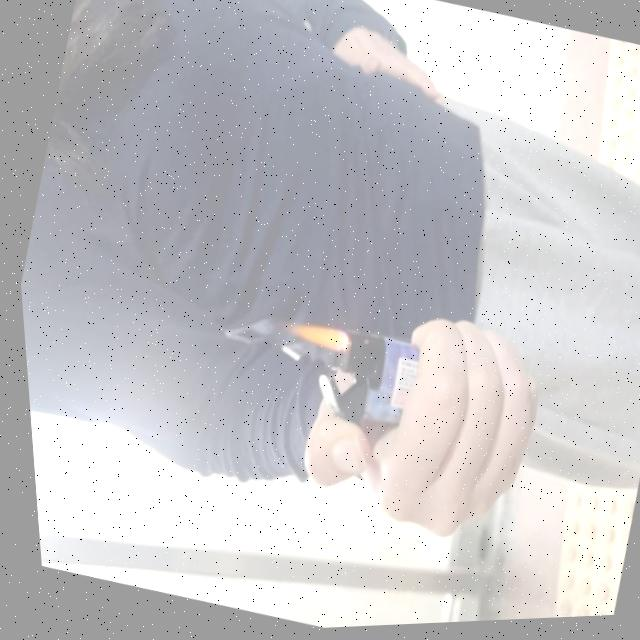Fire: (273, 315, 347, 359)
